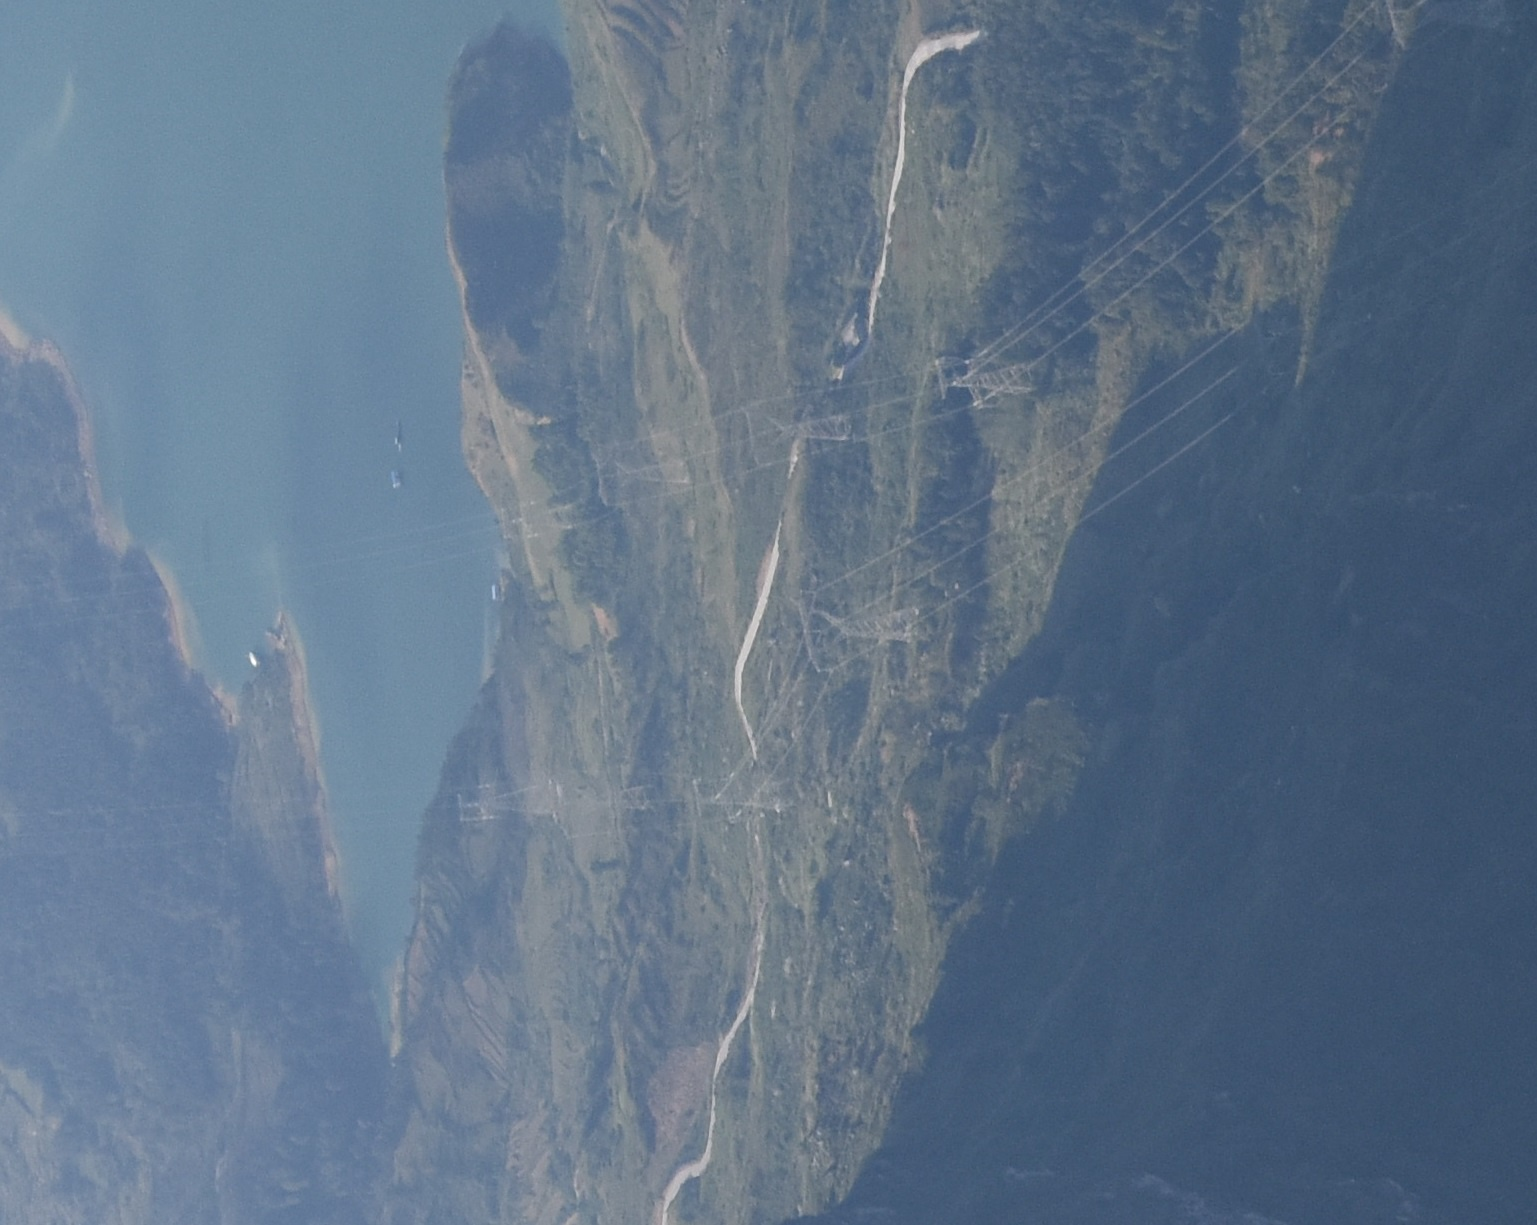cable-tower: (790, 582, 939, 676), (738, 397, 856, 464), (584, 441, 698, 505), (933, 347, 1054, 407), (551, 775, 658, 836), (456, 778, 555, 832), (689, 774, 792, 822), (499, 498, 576, 537)
prefabricated-house: (390, 470, 401, 489), (248, 650, 260, 667), (491, 583, 501, 600)
